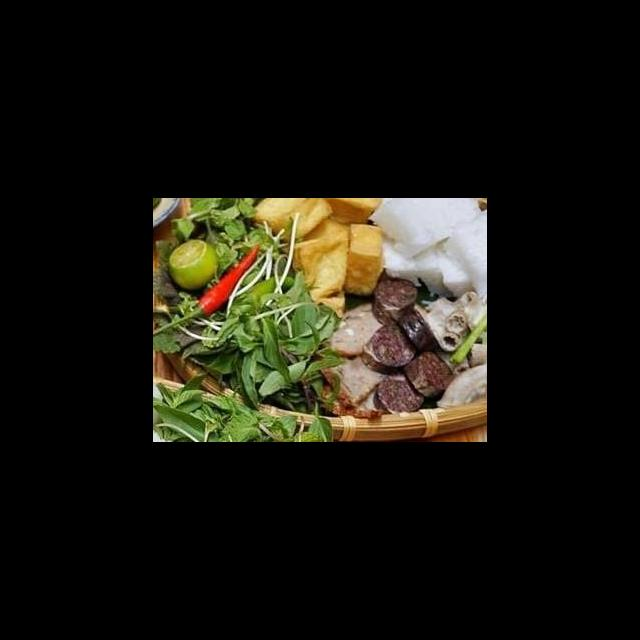bun: (366, 199, 487, 305)
bun dau: (158, 215, 487, 442)
dau hu: (240, 199, 389, 320)
doi sun: (359, 309, 437, 380), (372, 367, 432, 425), (399, 349, 458, 402), (367, 273, 422, 325)
thit heo: (312, 297, 393, 419)
